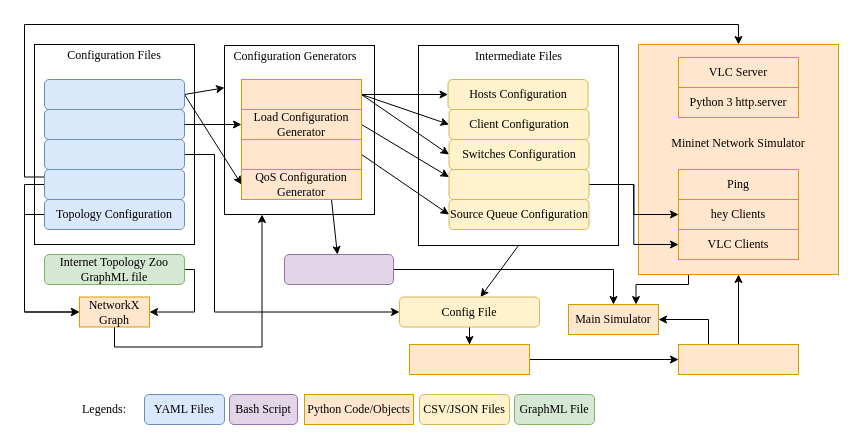
The diagram is 856 pixels wide and 442 high, and some of its shapes have lost their labels. The centre of each missing label's shape, as x and y in pixels:
Class Profile Configuration: point 114,124
Configuration Metadata: point 114,94
Host Configuration Generator: point 301,94
Load Configuration: point 518,184
ovs-oftcl QoS Script: point 339,269
QoS Algorithms: point 469,359
Ryu SDN Controller: point 738,359
Server Configuration: point 114,184
Source Queue Grouping Generator: point 301,154
Traffic Class Configuration: point 114,154
